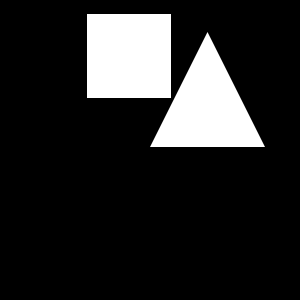circle: (87, 14, 171, 98)
triangle: (150, 32, 265, 147)
